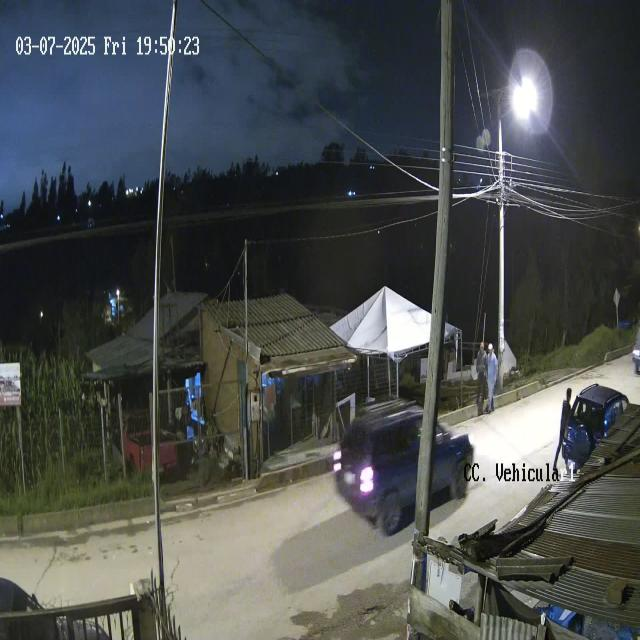SUV: (331, 403, 471, 530)
